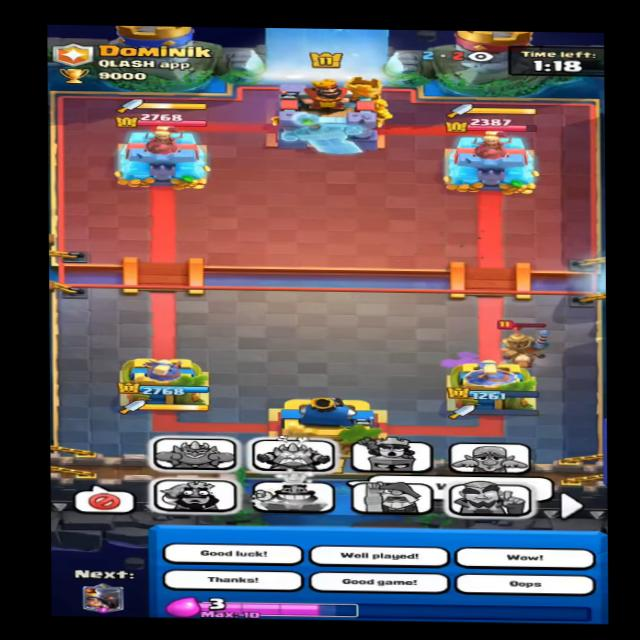prince: (486, 319, 551, 372)
